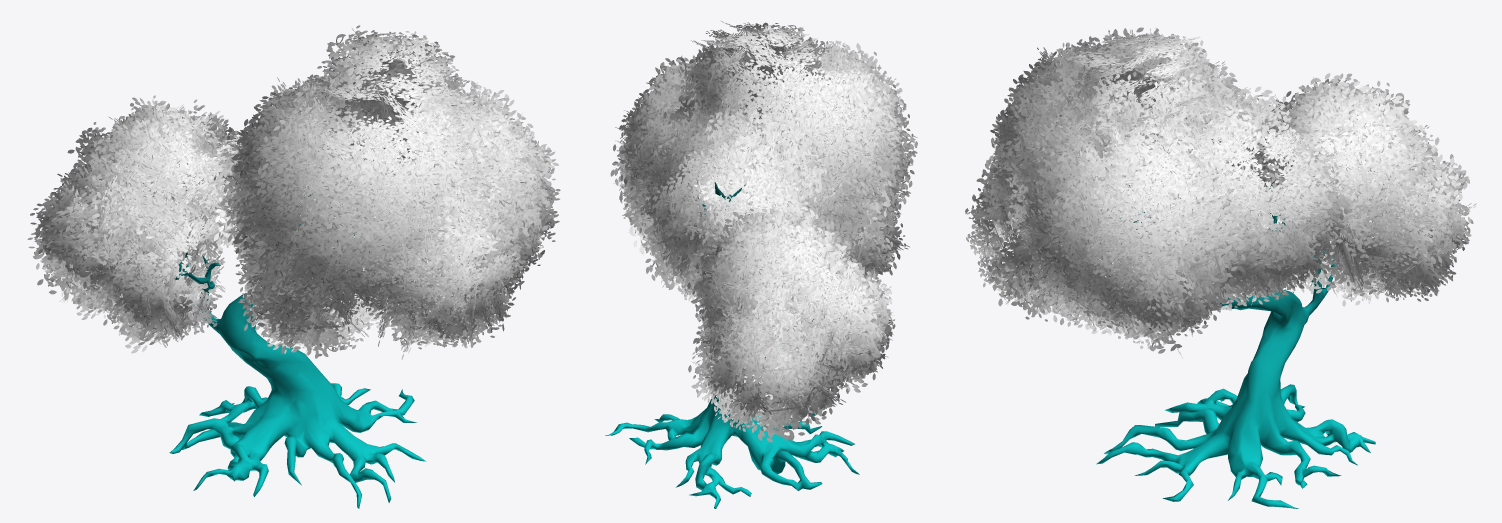
File: OakTree_04.fbx
3 renders of one model, left to right at view 1: azimuth 30°, elevation 25°; view 2: azimuth 150°, elevation 25°; view 3: azimuth 270°, elevation 25°, orthographic. The views are drawn at different scales.
Visible parts, largest first — view 1: OakTree04_LOD0; view 2: OakTree04_LOD0; view 3: OakTree04_LOD0.
Boxes of the visible parts, x1,y1,x2,y2 form: OakTree04_LOD0: (27, 25, 560, 508); OakTree04_LOD0: (605, 21, 917, 508); OakTree04_LOD0: (965, 27, 1476, 508).
Size of the model in its own units: 1099 by 1113 by 1202.
